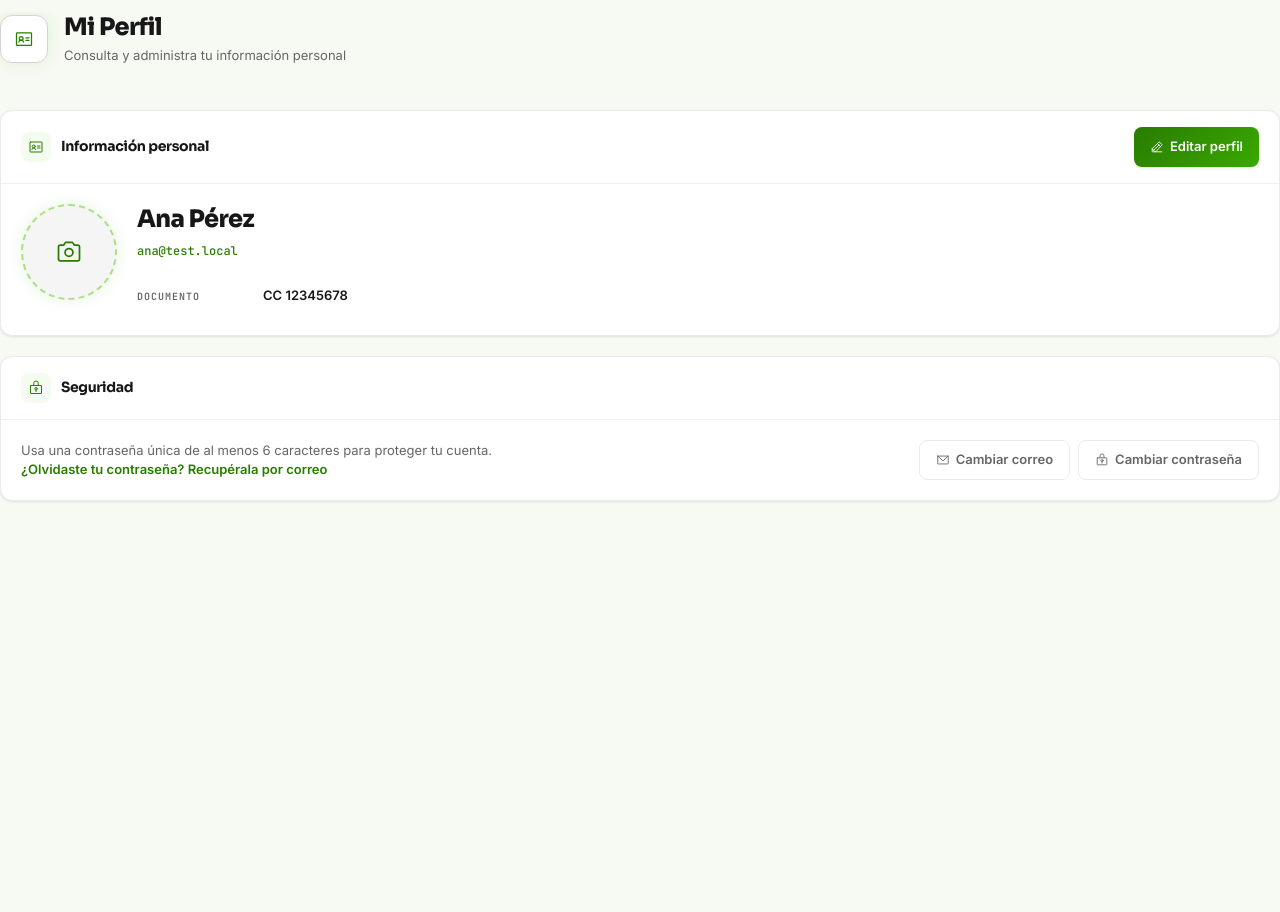
Test: PerfilBase › muestra el documento como dato de solo lectura en el perfil propio
Expected: the text "CC 12345678" is shown, [263, 286, 348, 305]
Click the button "Editar perfil" at (1196, 146), box [1134, 126, 1259, 166]
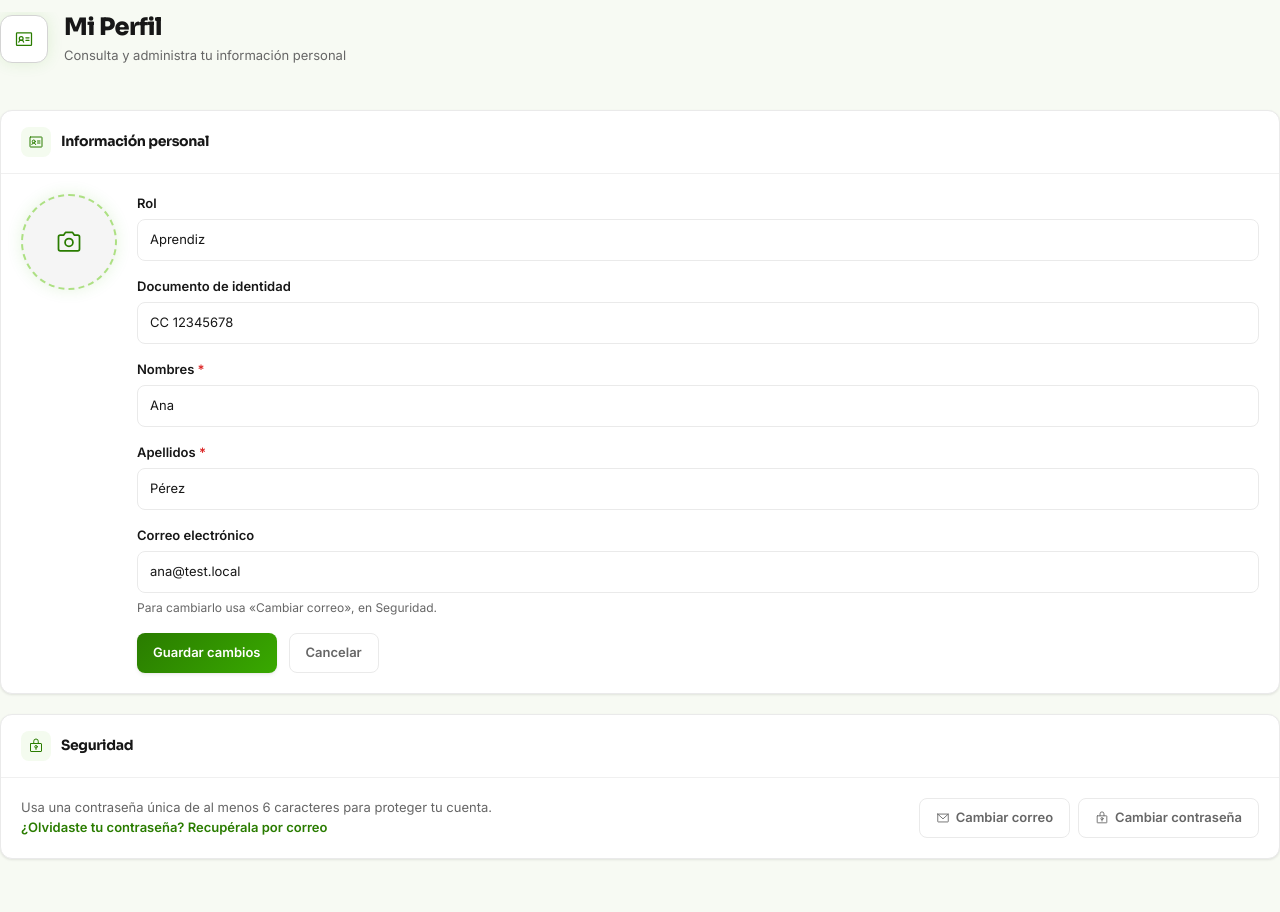
Now the field labelled "Documento de identidad" holds "CC 12345678", box [137, 302, 1259, 344]
